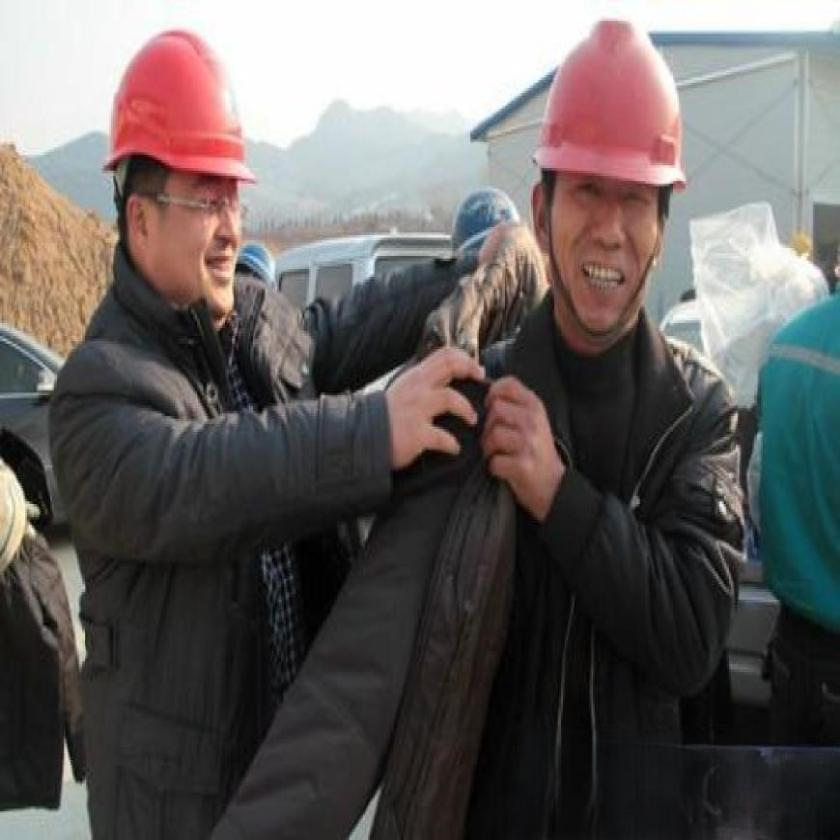Con_casco: (538, 15, 696, 338), (105, 15, 268, 317)
